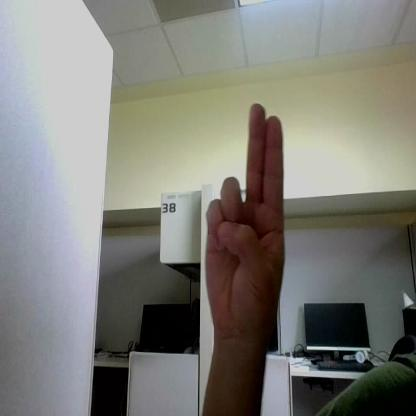U: (205, 104, 284, 330)
